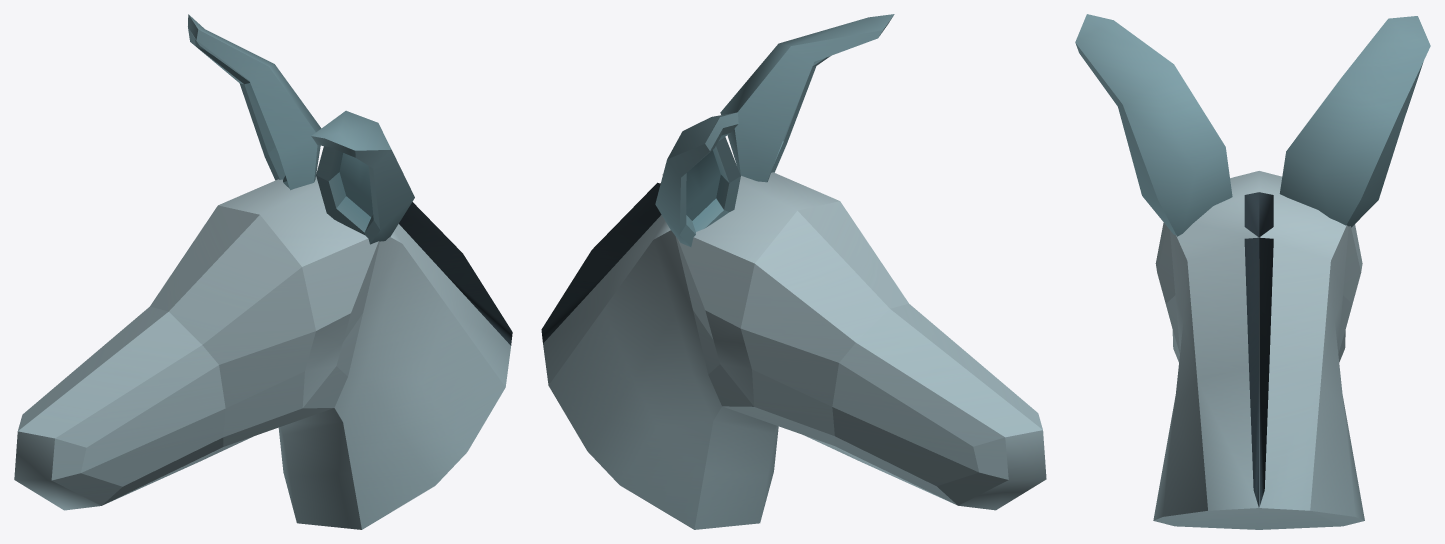
The model's file is SM_Donkey_Head.fbx.
The picture shows the model from 3 angles, left to right: view 1: azimuth 30°, elevation 25°; view 2: azimuth 150°, elevation 25°; view 3: azimuth 270°, elevation 25°; orthographic projection. The views are drawn at different scales.
Visible parts, largest first — view 1: SM_Donkey_Head; view 2: SM_Donkey_Head; view 3: SM_Donkey_Head.
Boxes of the visible parts, x1,y1,x2,y2 form: SM_Donkey_Head: (14, 14, 512, 529); SM_Donkey_Head: (541, 14, 1046, 529); SM_Donkey_Head: (1075, 14, 1430, 529).
Bounding box in the file's own units: 35.48 × 31.62 × 20.54.
